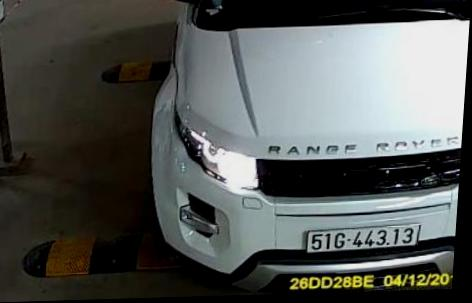License_Plate: (304, 221, 426, 256)
